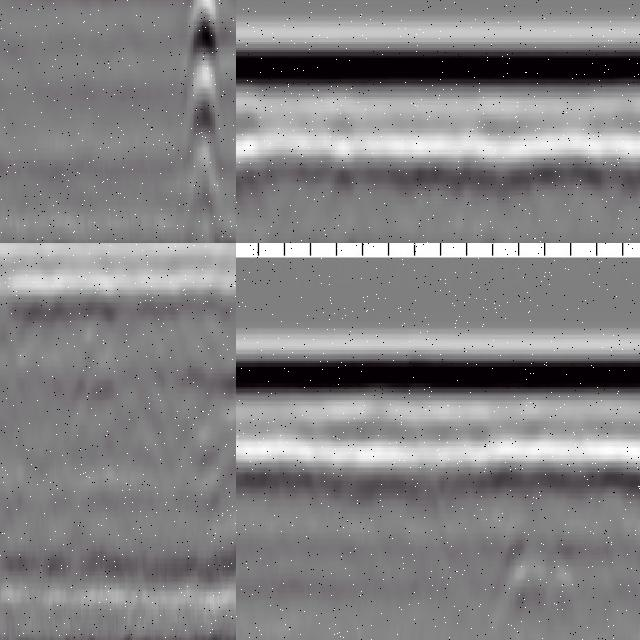crack: (182, 1, 227, 244)
